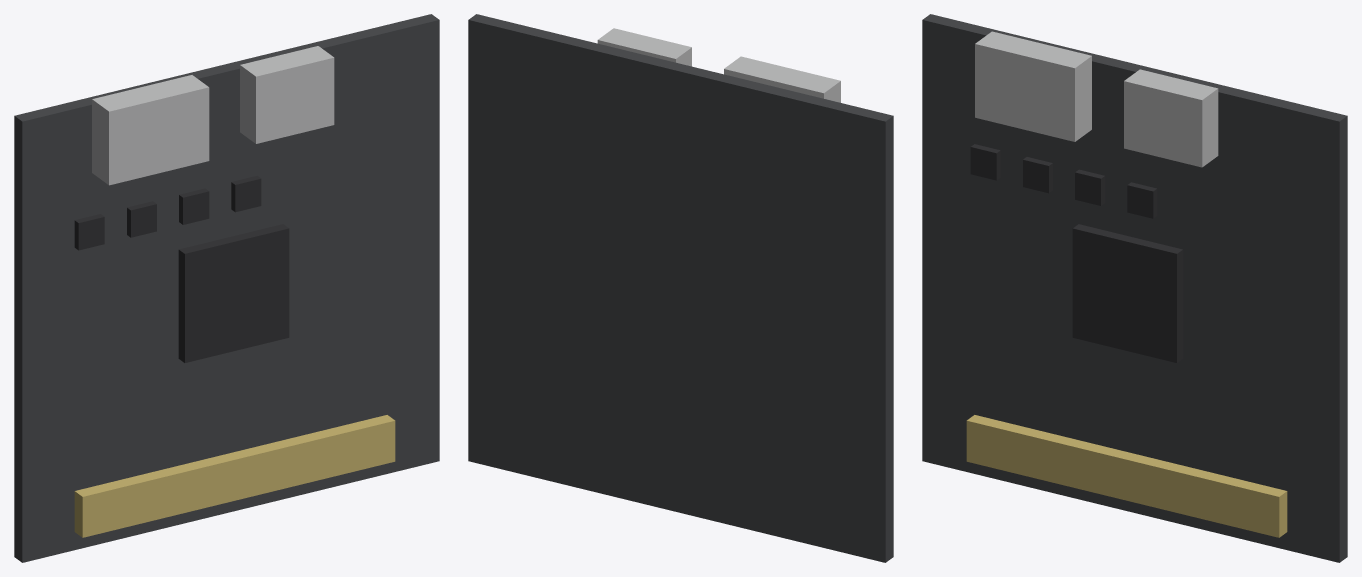
File: driver_board.glb
3 renders of one model, left to right at view 1: azimuth 30°, elevation 25°; view 2: azimuth 150°, elevation 25°; view 3: azimuth 330°, elevation 25°, orthographic.
Parts seen in each view (by area): view 1: c0, c1, c3, c2; view 2: c0, c1; view 3: c0, c1, c3, c2.
Part boxes in pixels (box(x1,y1,x2,y2)): c0: box(14, 14, 439, 562); c1: box(92, 46, 334, 185); c3: box(74, 175, 289, 362); c2: box(74, 415, 395, 537); c0: box(468, 14, 893, 562); c1: box(597, 28, 840, 102); c0: box(922, 14, 1347, 562); c1: box(975, 31, 1218, 167); c3: box(970, 144, 1183, 362); c2: box(966, 415, 1287, 537).
Bounding box in the file's own units: 47.93 × 49.06 × 5.
